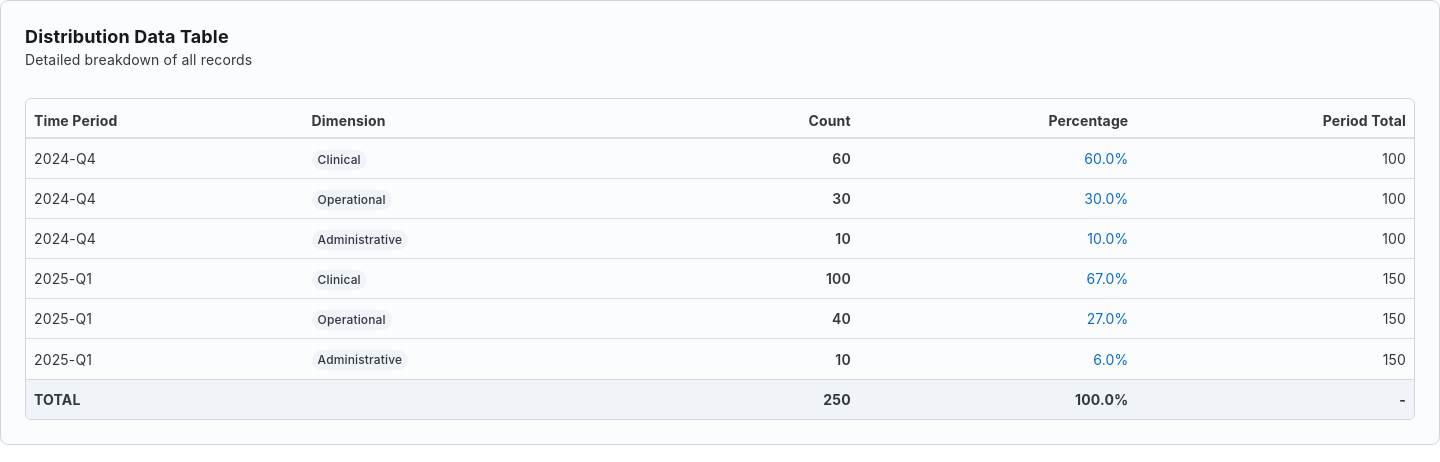
it: DistributionTableView › sort direction changes on multiple clicks
The width and height of the screenshot is (1440, 462).
# First click - ascending
Click the column heading "Count" at point(720, 119), box x1=581 y1=99 x2=859 y2=139
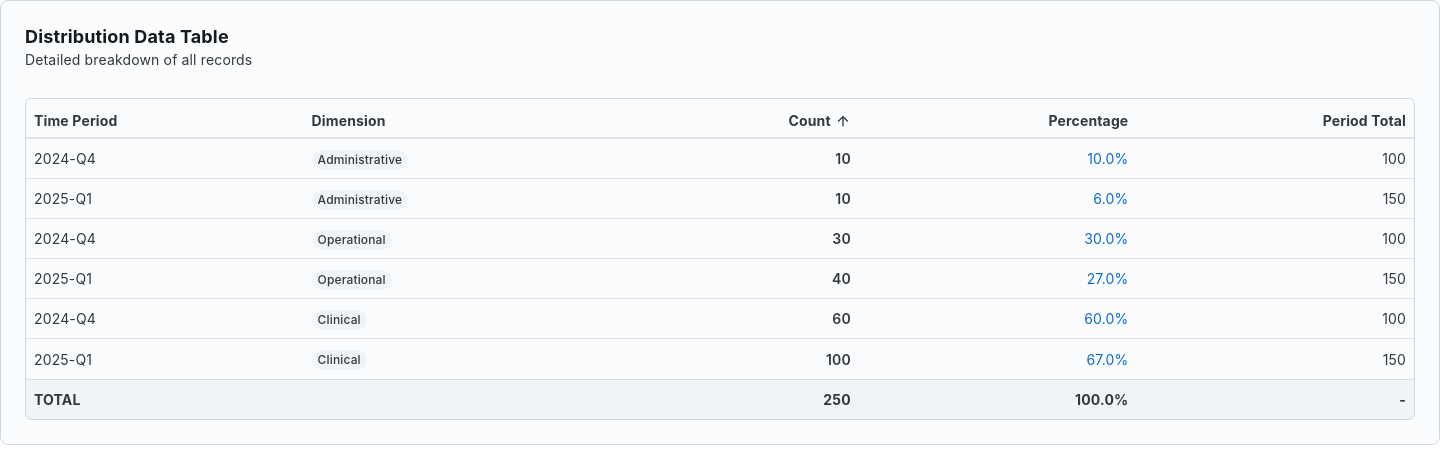
# Second click - descending
Click the column heading "Count" at point(720, 119), box x1=581 y1=99 x2=859 y2=139
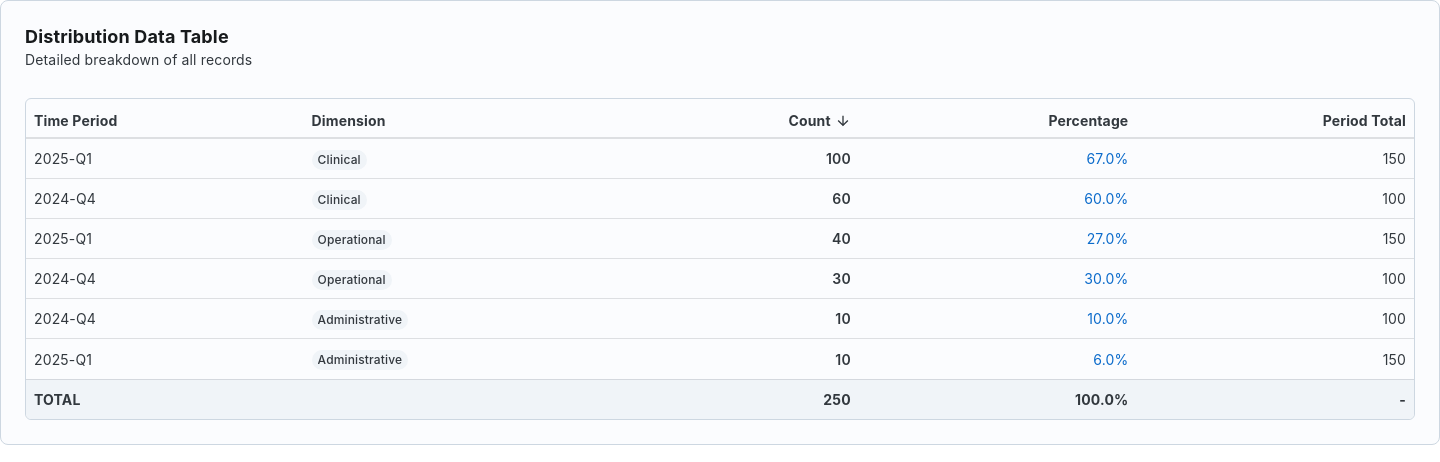
Expected: the text "Clinical" in the row of "67.0" is shown, x1=318 y1=152 x2=361 y2=167
